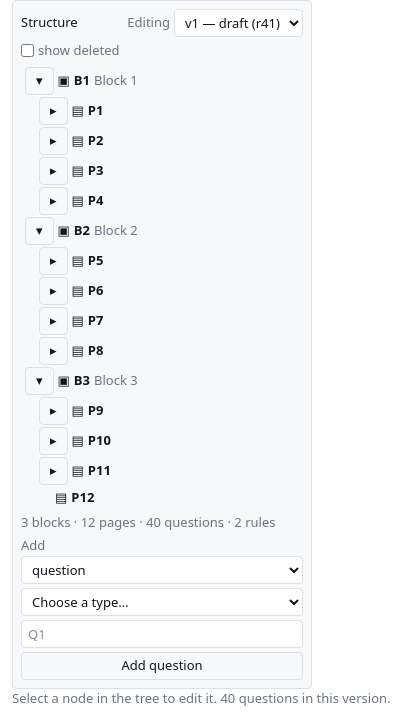
Test: SurveyTreePane — the outline › collapses and expands a container
Expected: the element with test id "survey-tree" is shown, left=25, top=66, right=138, bottom=506
Click the button named "Collapse B1" at (39, 80), box left=25, top=66, right=54, bottom=94
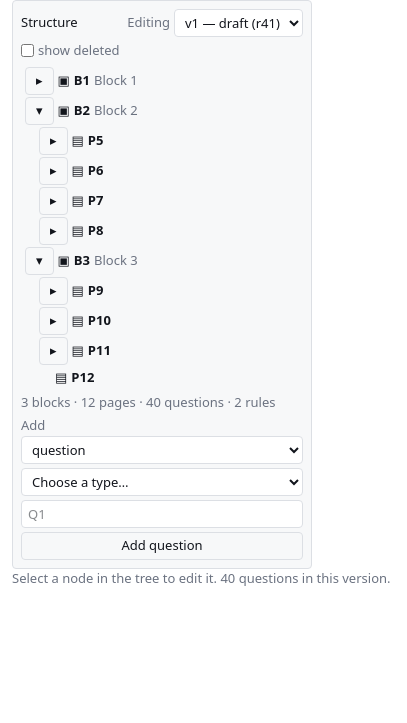
Expected: the list item with test id "tree-row-pg_0_0" is gone
Click the button named "Expand B1" at (39, 80), box left=25, top=66, right=54, bottom=94
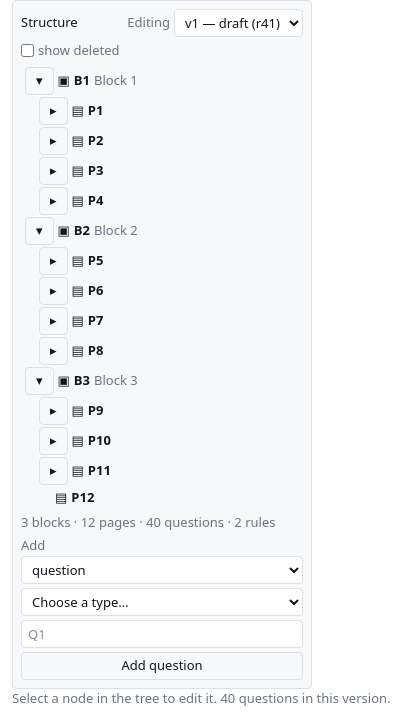
Expected: the list item with test id "tree-row-pg_0_0" is shown, left=39, top=96, right=103, bottom=124
